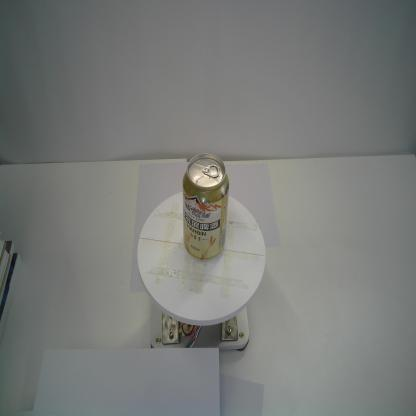Alcohol: (181, 152, 231, 262)
